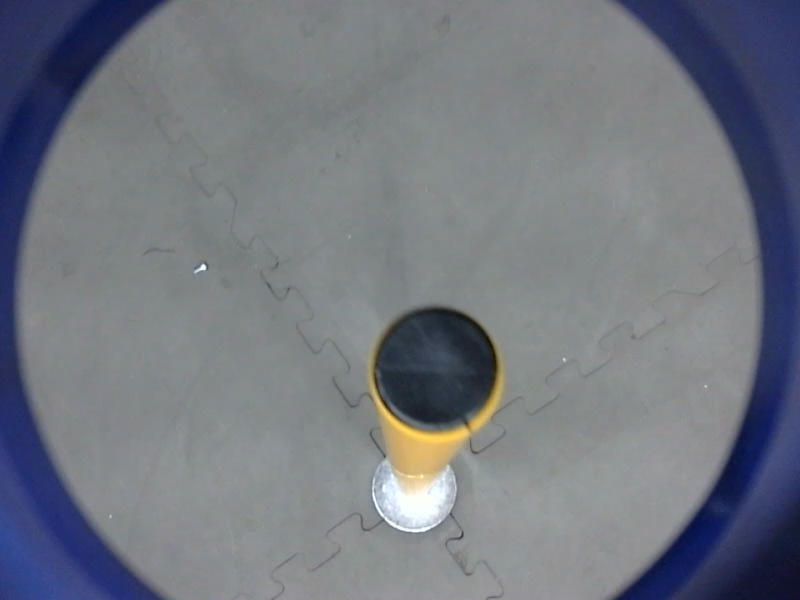tip: (362, 298, 509, 442)
